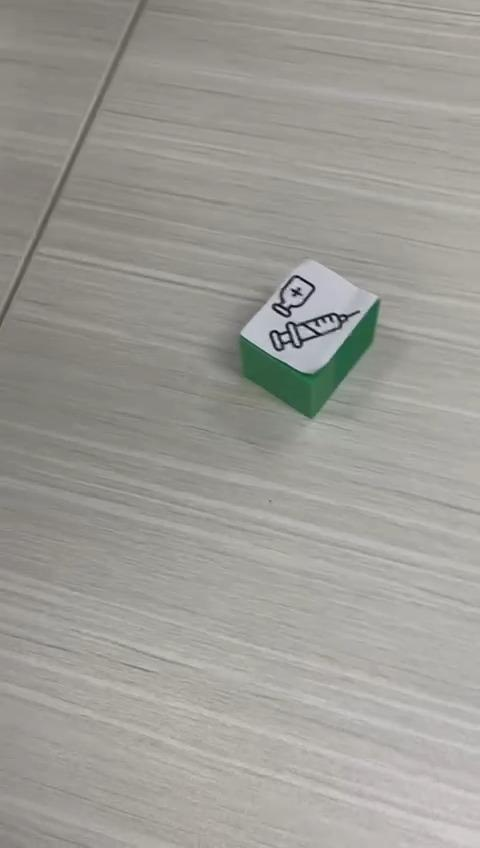antiseptic cream: (237, 256, 381, 419)
